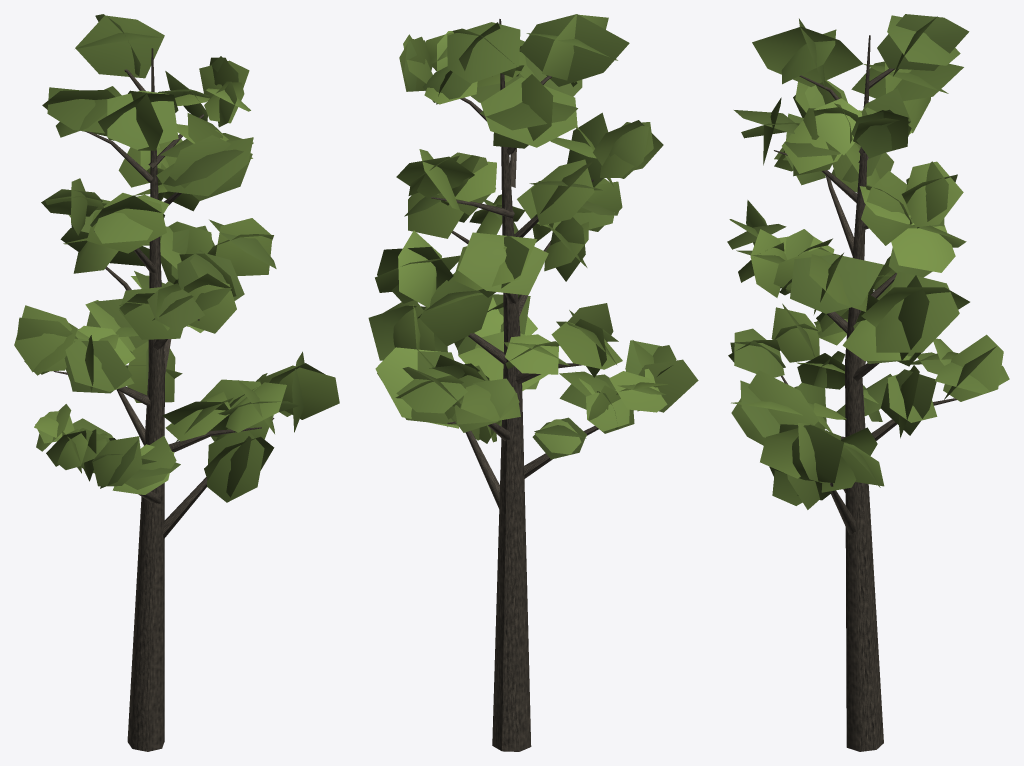
File: upright_02_lod2.glb
3 views of the same model, side by side, from view 1: azimuth 30°, elevation 25°; view 2: azimuth 150°, elevation 25°; view 3: azimuth 270°, elevation 25° (orthographic). The views are drawn at different scales.
Visible parts, largest first — view 1: individual_curved_leaf_sprigs, retained_branches_0; view 2: individual_curved_leaf_sprigs, retained_branches_0; view 3: individual_curved_leaf_sprigs, retained_branches_0.
Boxes of the visible parts, left/top/right/bottom form: individual_curved_leaf_sprigs: left=14, top=14, right=339, bottom=502; retained_branches_0: left=53, top=48, right=274, bottom=751; individual_curved_leaf_sprigs: left=368, top=14, right=698, bottom=459; retained_branches_0: left=431, top=19, right=598, bottom=751; individual_curved_leaf_sprigs: left=727, top=14, right=1009, bottom=509; retained_branches_0: left=774, top=35, right=956, bottom=751.
Size of the model in its own units: 5.1 by 11.73 by 4.13.
2 materials, 1 textured.
